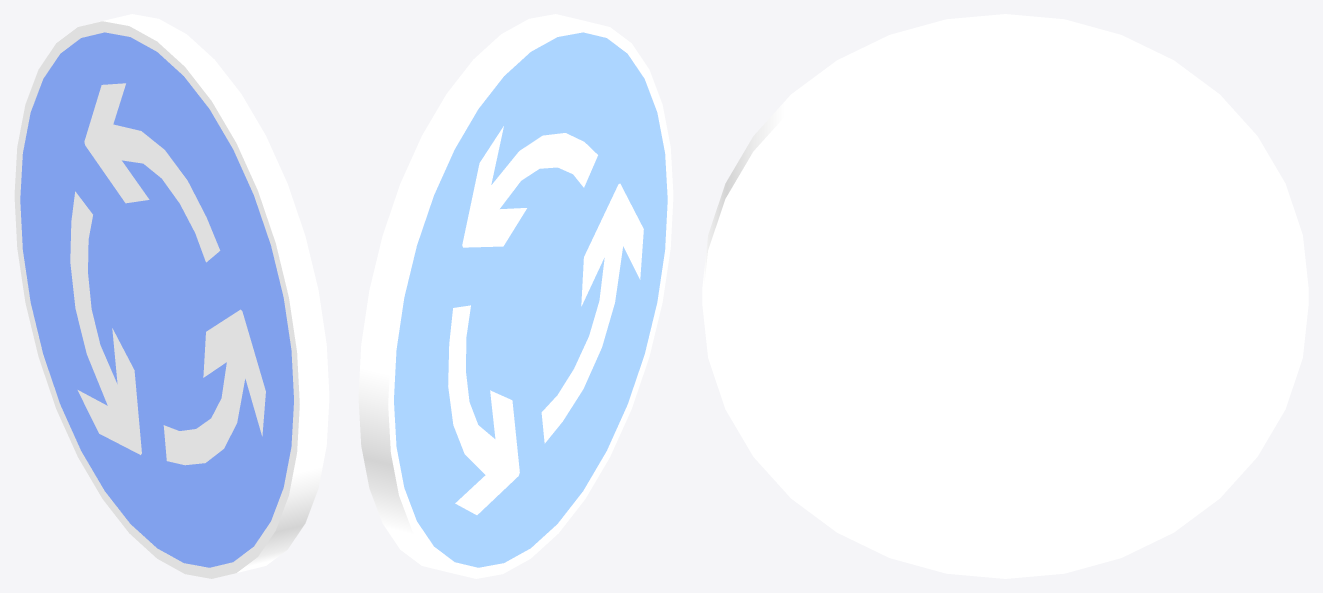
The model's file is RoundAbout_Driving.glb.
3 views of the same model, side by side, from view 1: azimuth 30°, elevation 25°; view 2: azimuth 150°, elevation 25°; view 3: azimuth 270°, elevation 25° (orthographic). The views are drawn at different scales.
Parts seen in each view (by area): view 1: RoundAbout_Driving; view 2: RoundAbout_Driving; view 3: RoundAbout_Driving.
Boxes of the visible parts, x1,y1,x2,y2 form: RoundAbout_Driving: (14,14,329,578); RoundAbout_Driving: (358,14,673,578); RoundAbout_Driving: (702,14,1308,578).
Bounding box in the file's own units: 0.0643 × 1 × 1.
